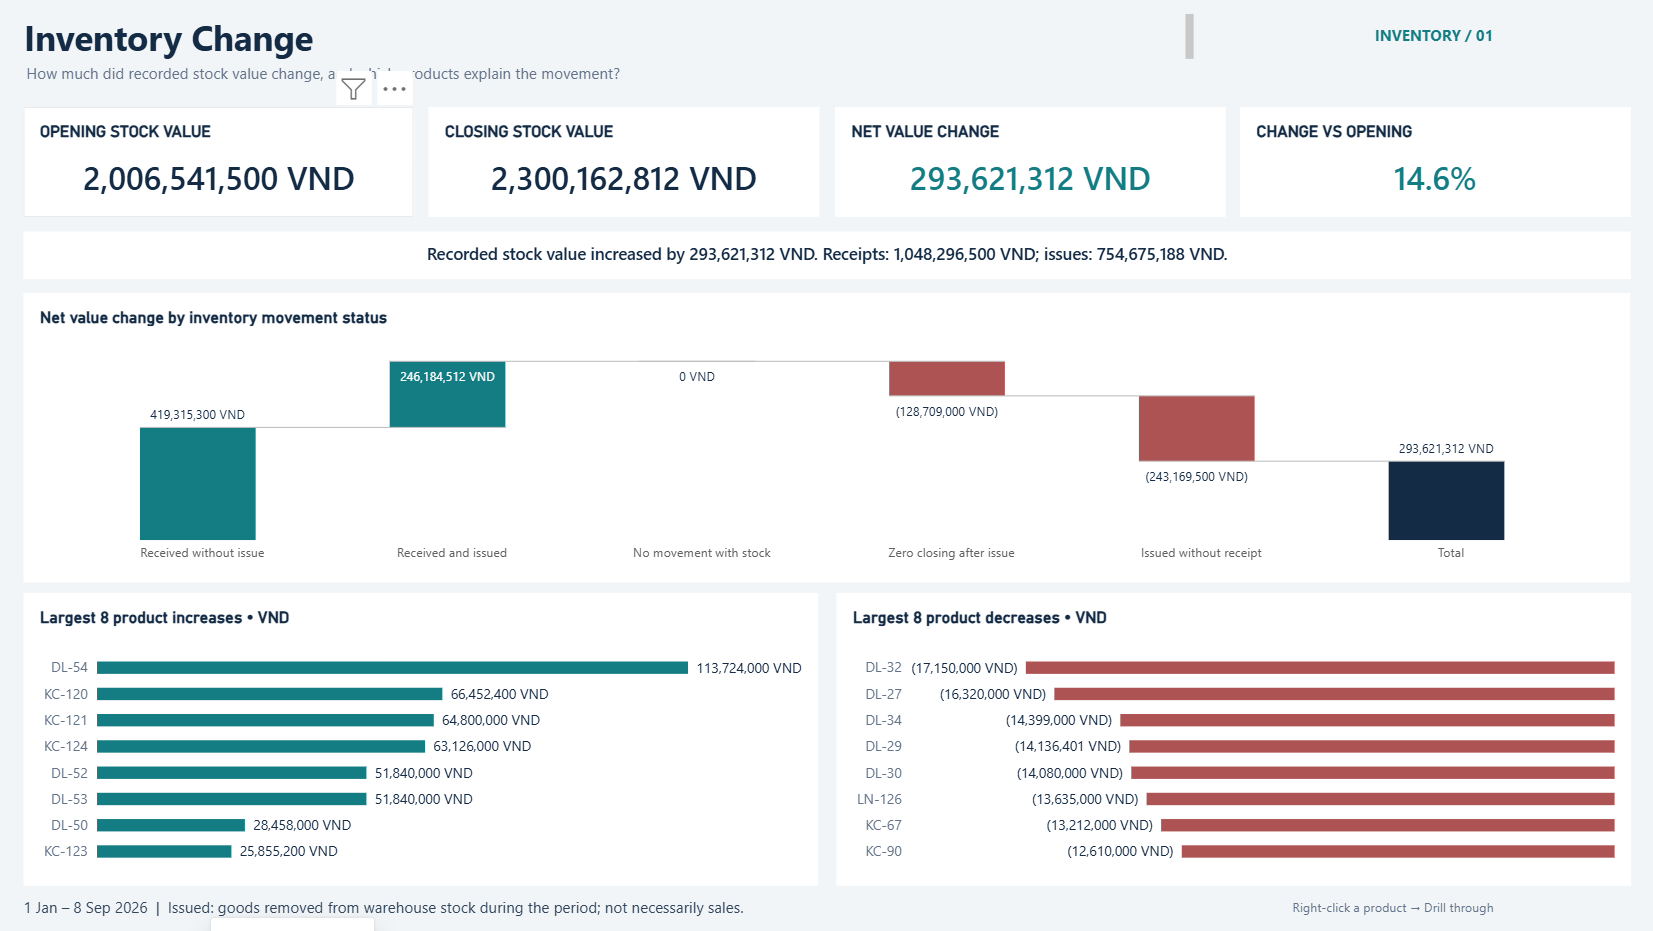

The page's visual inventory and layout, read from the dashboard file:
{"tool":"powerbi","page":{"name":"Inventory Change","canvas":[1600,900],"ordinal":0},"visuals":[{"type":"textbox","box":[24,14,1130,44],"z":0},{"type":"textbox","box":[27,61,1280,29],"z":100},{"type":"textbox","box":[1330,24,245,28],"z":200},{"type":"textbox","box":[24,866,1250,24],"z":300},{"type":"textbox","box":[1250,866,326,24],"z":400},{"type":"card","title":"OPENING STOCK VALUE","fields":{"Values":["inventory_status.Opening Inventory Value"]},"box":[24,104,377,106],"z":500},{"type":"card","title":"CLOSING STOCK VALUE","fields":{"Values":["inventory_status.Closing Inventory Value"]},"box":[416,104,377,106],"z":600},{"type":"card","title":"NET VALUE CHANGE","fields":{"Values":["inventory_status.Inventory Value Change"]},"box":[808,104,377,106],"z":700},{"type":"card","title":"CHANGE VS OPENING","fields":{"Values":["inventory_status.Inventory Value Change %"]},"box":[1200,104,377,106],"z":800},{"type":"card","fields":{"Values":["inventory_status.Change Note"]},"box":[24,224,1552,46],"z":900},{"type":"waterfallChart","title":"Net value change by inventory movement status","fields":{"Category":["inventory_status.inventory_status"],"Y":["inventory_status.Inventory Value Change"]},"box":[24.6,283.9,1551.3,279.5],"z":1000},{"type":"clusteredBarChart","title":"Largest 8 product increases • VND","fields":{"Category":["inventory_status.product_code"],"Y":["inventory_status.Inventory Value Change"]},"box":[24.6,573.6,767.7,282.4],"z":1100},{"type":"clusteredBarChart","title":"Largest 8 product decreases • VND","fields":{"Category":["inventory_status.product_code"],"Y":["inventory_status.Inventory Value Change"]},"box":[809.7,573.6,767.7,282.4],"z":1200}]}

Visuals, with their boxes in screenshot pixels (x1, y1, x2, y2), scaled from the page's 1600x900 canvas onto the 1653x931 screenshot:
textbox: x1=25, y1=14, x2=1192, y2=60
textbox: x1=28, y1=63, x2=1350, y2=93
textbox: x1=1374, y1=25, x2=1627, y2=54
textbox: x1=25, y1=896, x2=1316, y2=921
textbox: x1=1291, y1=896, x2=1628, y2=921
"OPENING STOCK VALUE" card: x1=25, y1=108, x2=414, y2=217
"CLOSING STOCK VALUE" card: x1=430, y1=108, x2=819, y2=217
"NET VALUE CHANGE" card: x1=835, y1=108, x2=1224, y2=217
"CHANGE VS OPENING" card: x1=1240, y1=108, x2=1629, y2=217
card - inventory_status.Change Note: x1=25, y1=232, x2=1628, y2=279
"Net value change by inventory movement status" waterfallChart: x1=25, y1=294, x2=1628, y2=583
"Largest 8 product increases • VND" clusteredBarChart: x1=25, y1=593, x2=819, y2=885
"Largest 8 product decreases • VND" clusteredBarChart: x1=837, y1=593, x2=1630, y2=885
